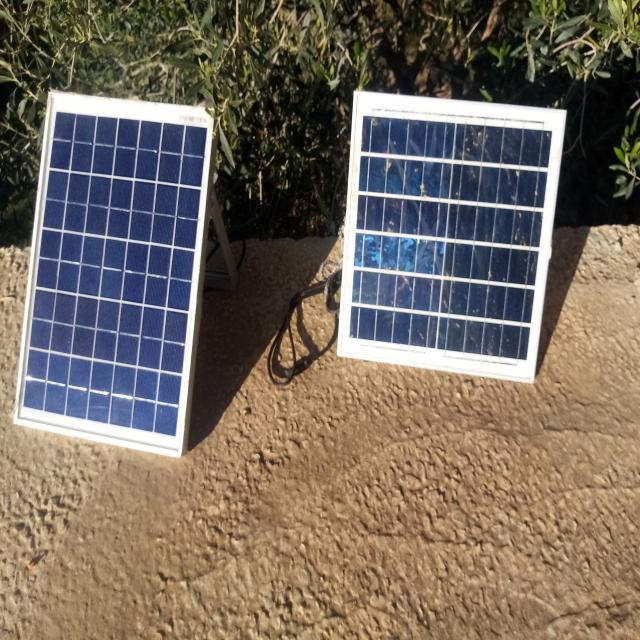faulty: (340, 92, 566, 382)
no faulty: (15, 90, 214, 455)
